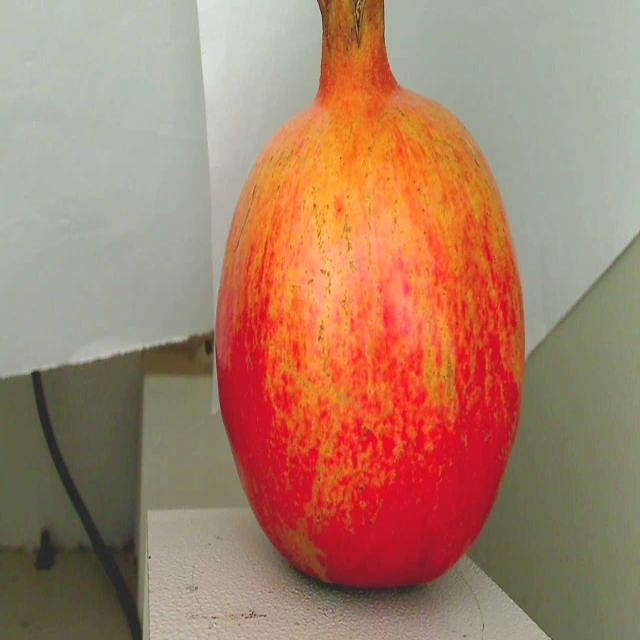pomegranate: (205, 0, 541, 606)
